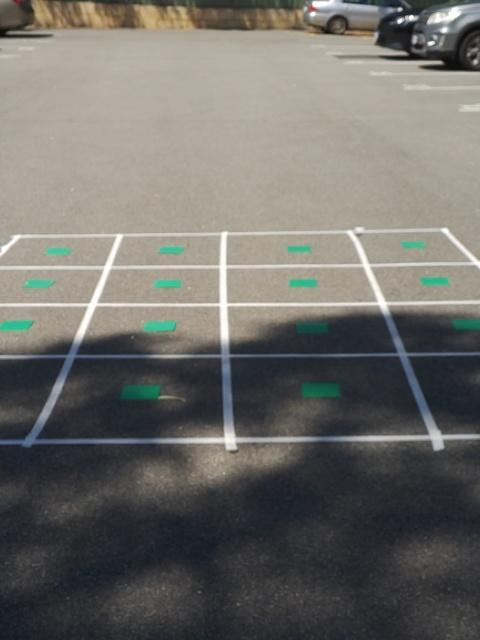weed: (117, 381, 163, 402), (300, 380, 346, 400), (42, 242, 77, 259), (449, 314, 480, 333), (21, 276, 61, 290), (136, 320, 179, 333), (0, 318, 40, 331), (296, 319, 329, 334), (419, 273, 450, 288), (287, 276, 320, 290), (153, 277, 184, 289), (287, 242, 313, 256), (156, 244, 186, 256), (400, 238, 426, 251)
